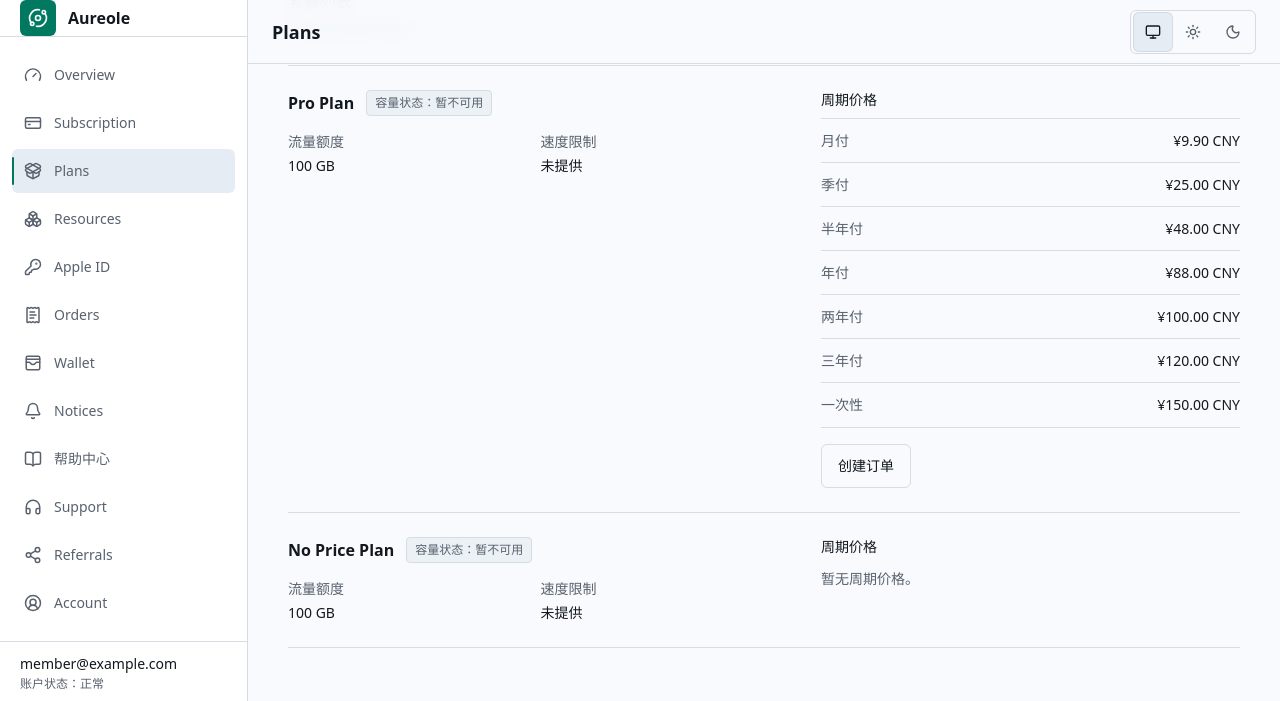
Test: Order Create flow › loads Product Detail lazily, keeps unavailable as metadata, and restores focus
(page scrolled)
Click the button "创建订单" at (866,466), box x1=821 y1=444 x2=911 y2=488
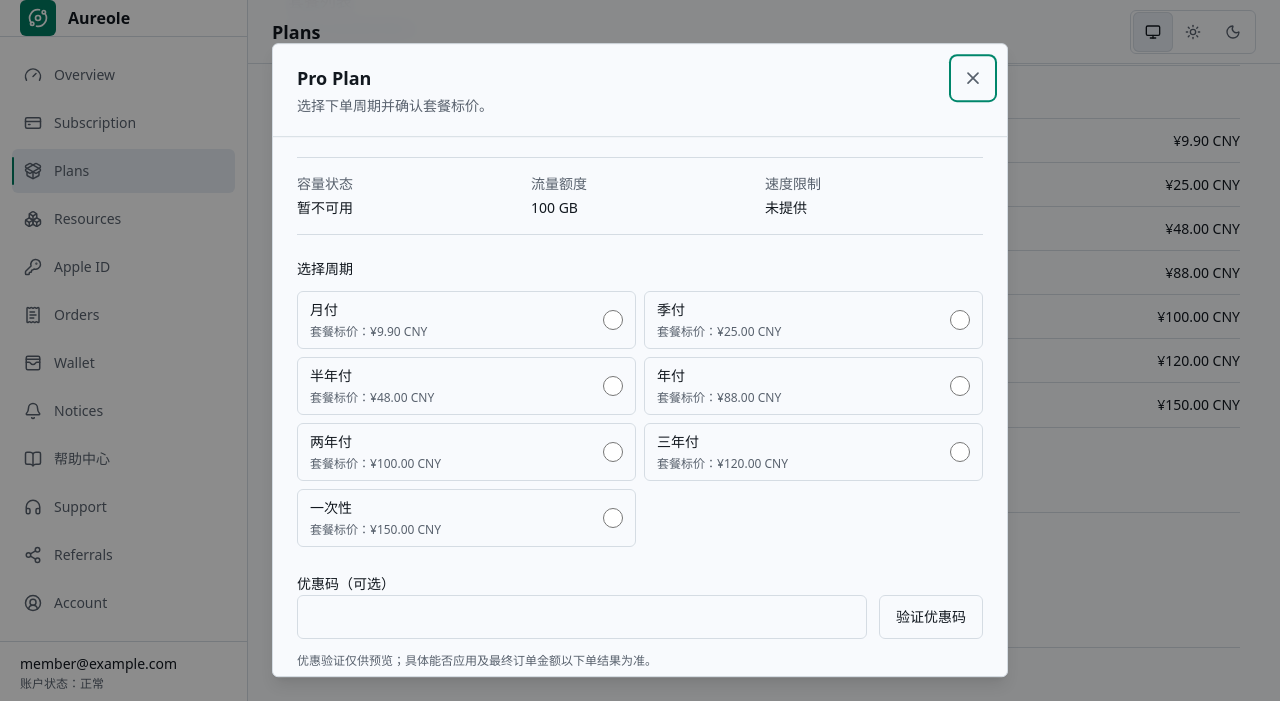
Expected: the text "暂不可用" is shown, x1=297 y1=198 x2=353 y2=217
Expected: the text "100 GB" is shown, x1=531 y1=198 x2=578 y2=217
Expected: the text "未提供" is shown, x1=765 y1=198 x2=807 y2=217
Click the button named "关闭创建订单" at (973,78), box x1=951 y1=56 x2=995 y2=100
(page scrolled)
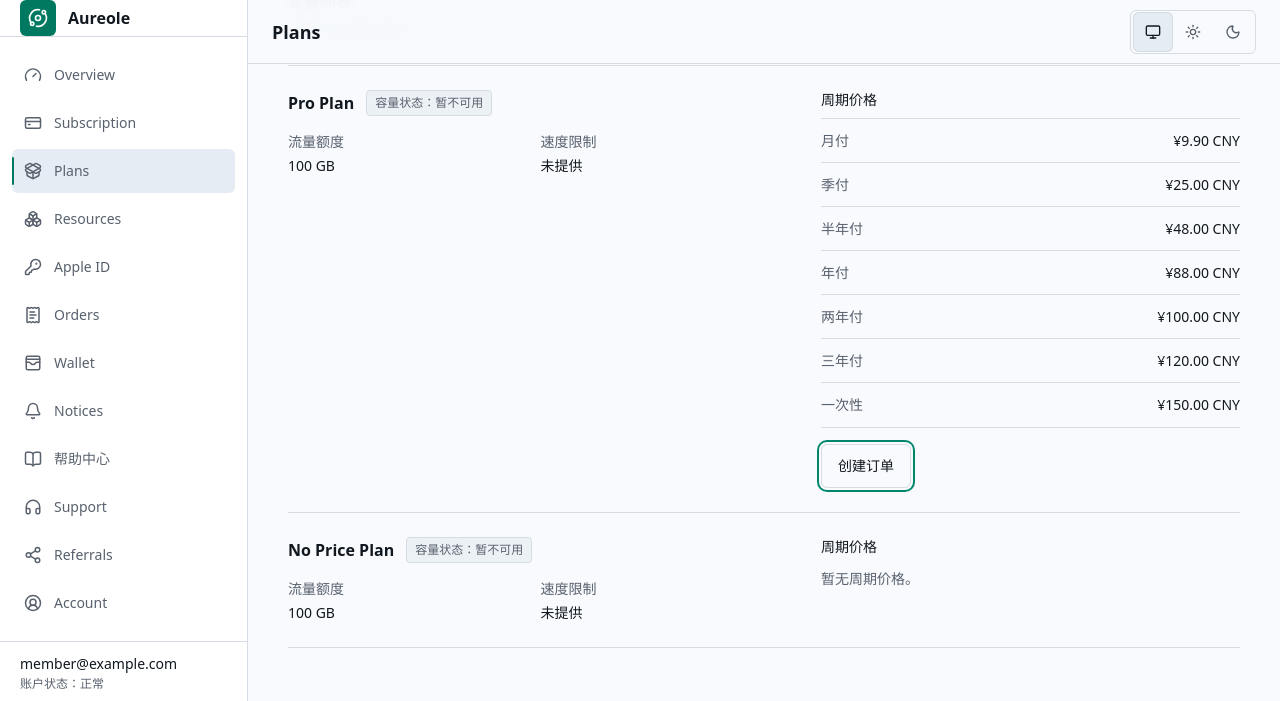
Expected: the dialog is gone
